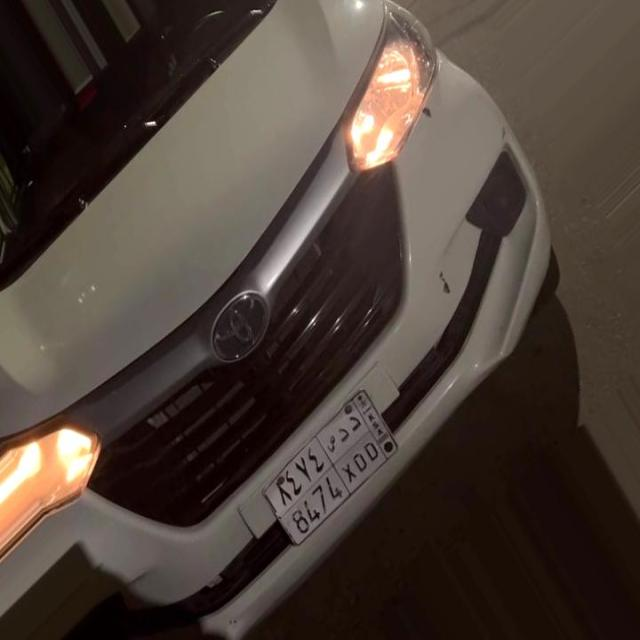Car-plate: (245, 365, 414, 575)
